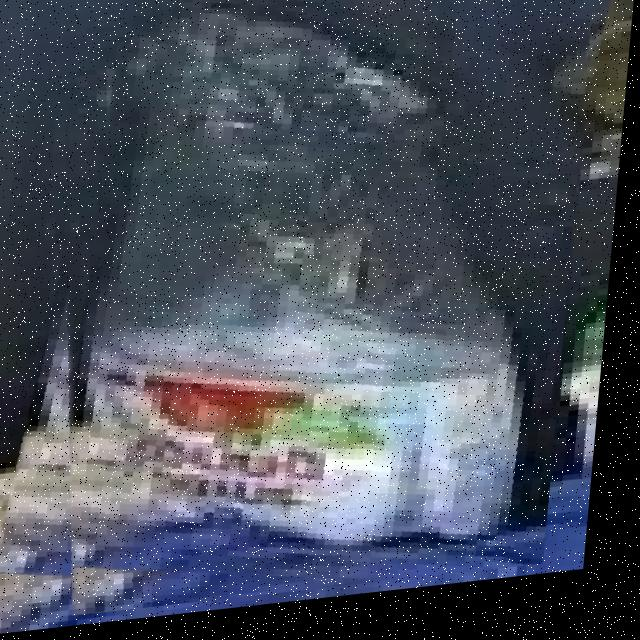plasticbottle: (19, 0, 599, 624)
